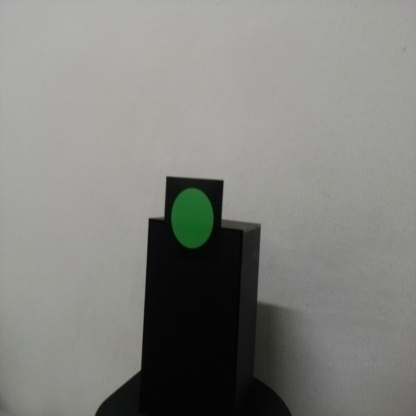id_5: (165, 177, 223, 266)
